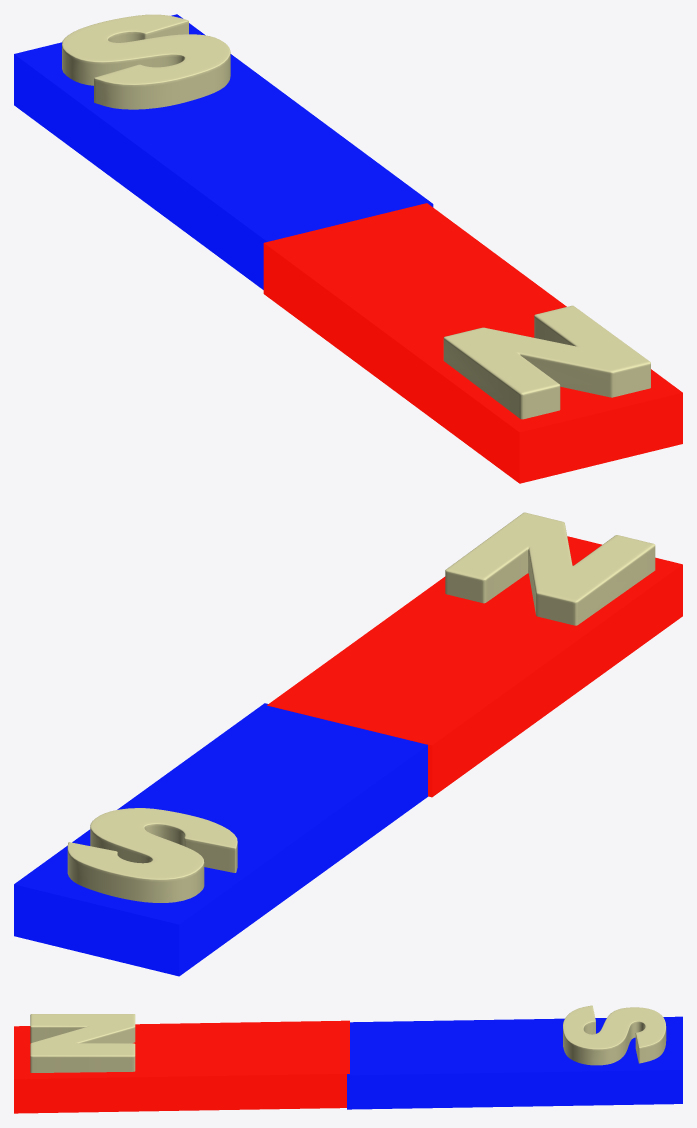
File: magnets.glb
3 renders of one model, top to bottom at view 1: azimuth 30°, elevation 25°; view 2: azimuth 150°, elevation 25°; view 3: azimuth 270°, elevation 25°, orthographic. The views are drawn at different scales.
Visible parts, largest first — view 1: Cube.001, Cube.002, node_id110, node_id134; view 2: Cube.002, Cube.001, node_id110, node_id134; view 3: Cube.002, Cube.001, node_id110, node_id134.
Boxes of the visible parts, x1,y1,x2,y2 form: Cube.001: (263,203,682,483); Cube.002: (14,14,433,289); node_id110: (443,305,650,419); node_id134: (62,14,230,109); Cube.002: (14,703,427,976); Cube.001: (267,536,682,797); node_id110: (445,512,655,625); node_id134: (67,808,237,902); Cube.002: (347,1016,682,1109); Cube.001: (14,1020,349,1113); node_id110: (30,1014,135,1072); node_id134: (563,1005,666,1065).
Size of the model in its own units: 0.41 by 0.203 by 2.13.
